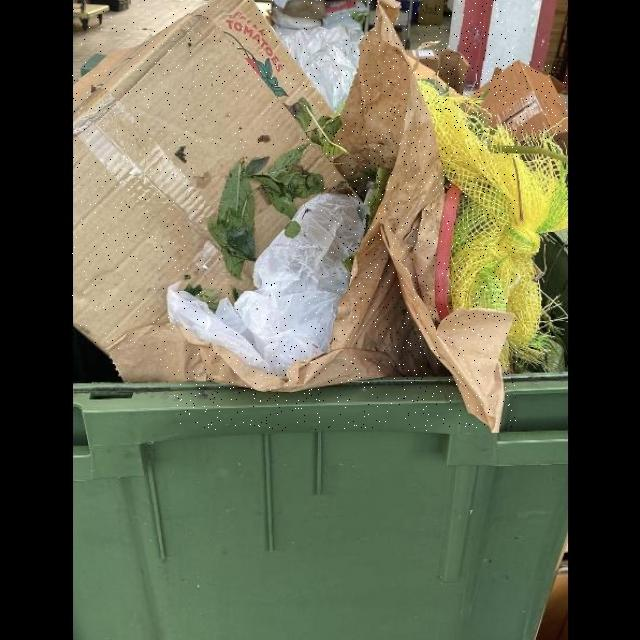biowaste: (205, 149, 321, 278)
paper: (174, 0, 517, 431), (72, 0, 347, 355), (469, 62, 567, 142), (440, 45, 470, 96)
plastic: (161, 191, 366, 370), (275, 24, 358, 117)
